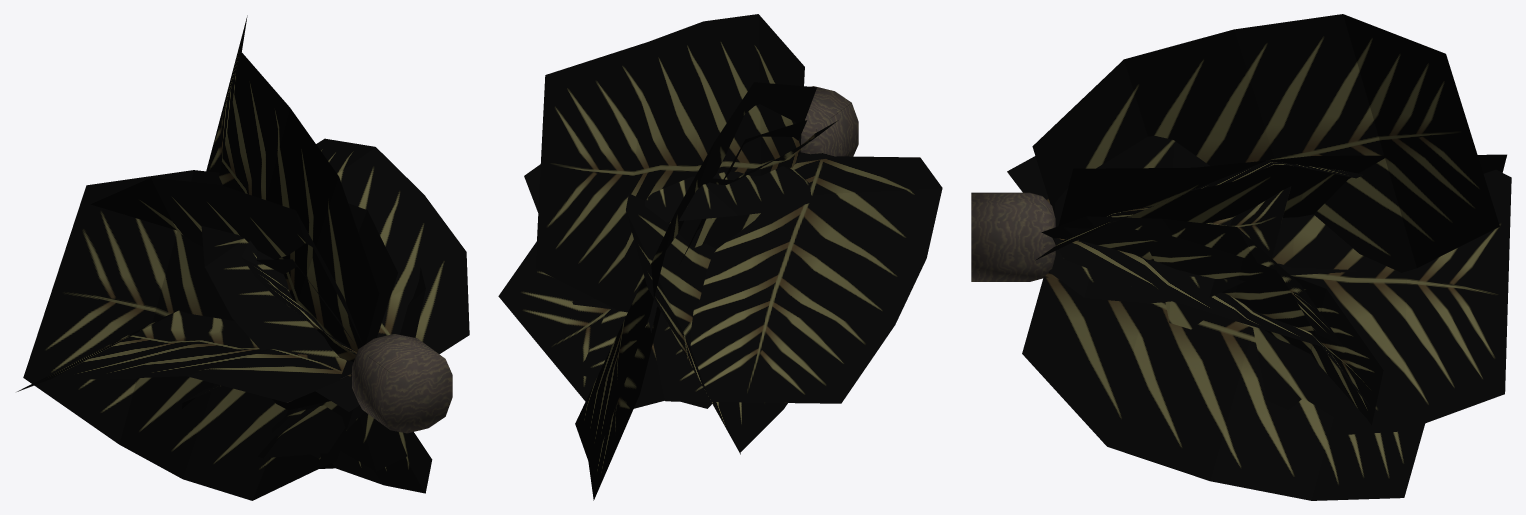
File: Plant1.fbx
3 views of the same model, side by side, from view 1: azimuth 30°, elevation 25°; view 2: azimuth 150°, elevation 25°; view 3: azimuth 270°, elevation 25° (orthographic). The views are drawn at different scales.
Visible parts, largest first — view 1: FullPlant; view 2: FullPlant; view 3: FullPlant.
Part boxes in pixels (left/top/right/bottom): FullPlant: left=17, top=15, right=469, bottom=500; FullPlant: left=498, top=14, right=942, bottom=500; FullPlant: left=971, top=14, right=1511, bottom=500.
Bounding box in the file's own units: 157 × 184 × 191.
